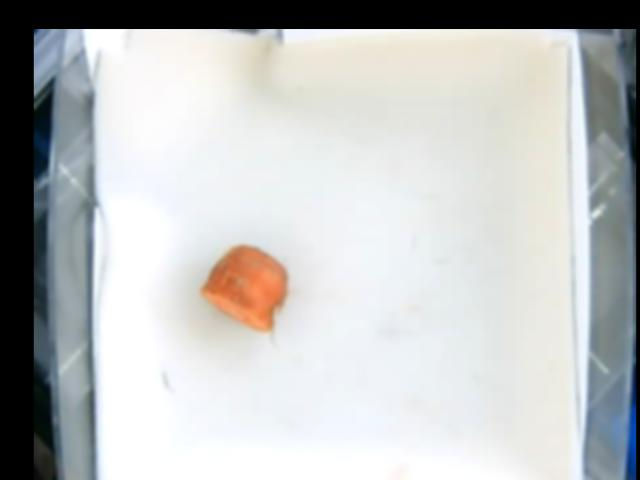Carrot: (201, 244, 289, 327)
